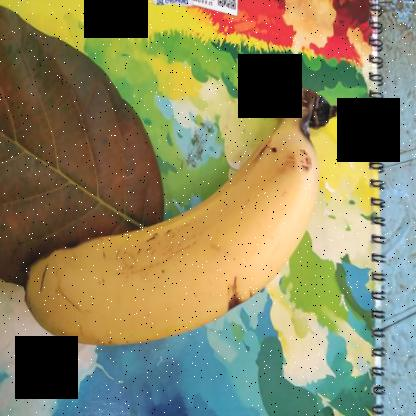freshripe: (18, 115, 318, 354)
